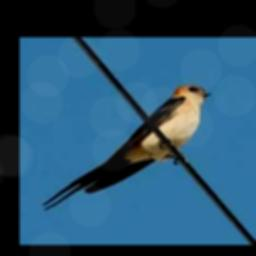Swallow: (41, 84, 212, 210)
